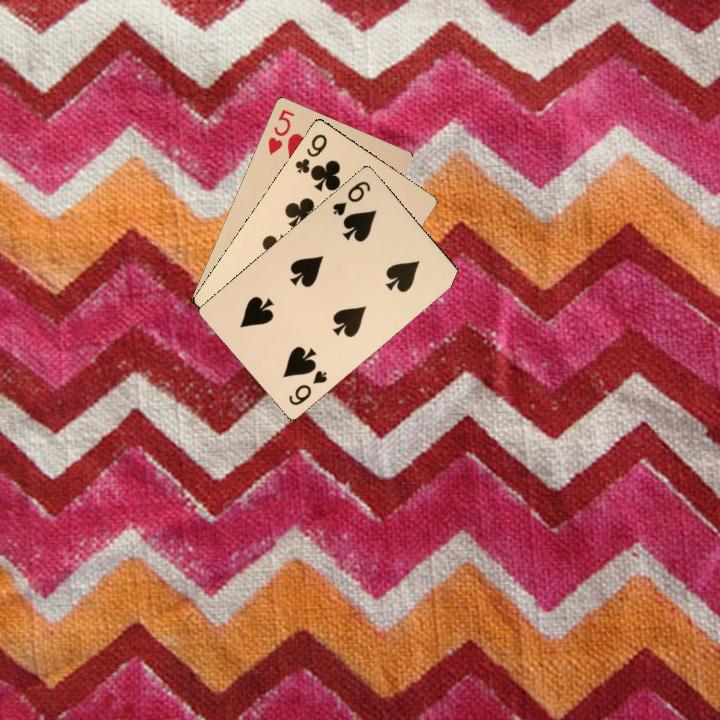5h: (264, 105, 297, 157)
6s: (328, 177, 373, 219), (285, 366, 330, 408)
9c: (291, 130, 330, 176)
